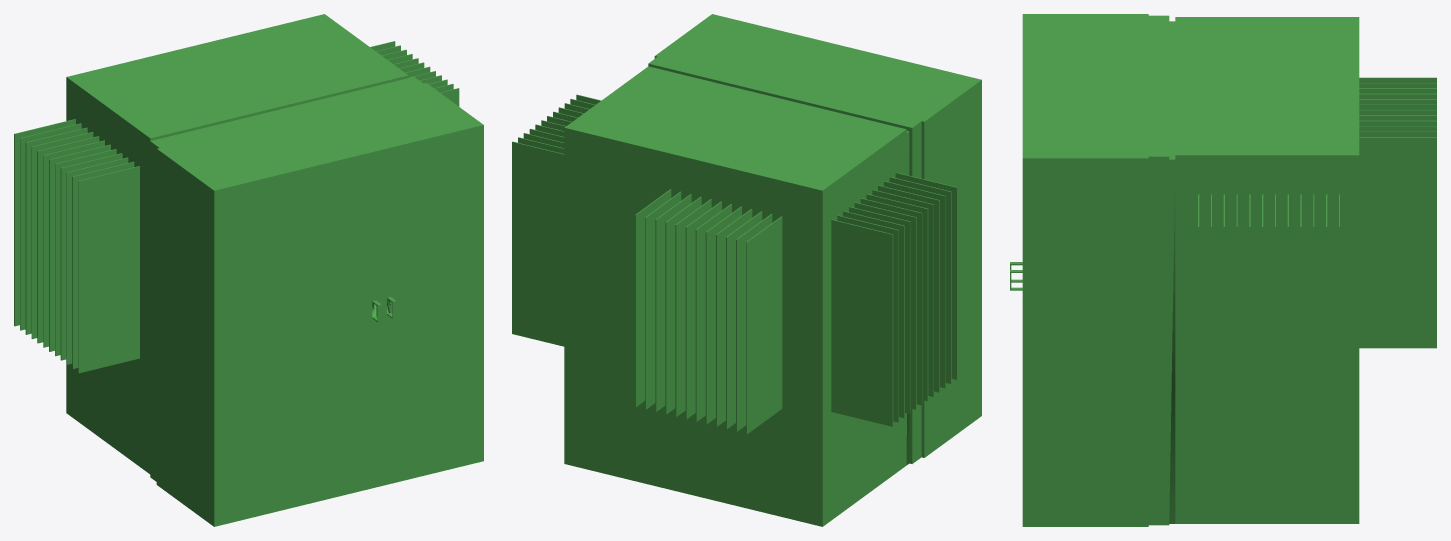
File: ElectricalBox_B.fbx
3 renders of one model, left to right at view 1: azimuth 30°, elevation 25°; view 2: azimuth 150°, elevation 25°; view 3: azimuth 270°, elevation 25°, orthographic. The views are drawn at different scales.
Parts seen in each view (by area): view 1: ElectricalBox_B; view 2: ElectricalBox_B; view 3: ElectricalBox_B.
Part boxes in pixels (x1,y1,x2,y2): ElectricalBox_B: (14,14,483,526); ElectricalBox_B: (512,14,981,526); ElectricalBox_B: (1010,14,1436,526).
Size of the model in its own units: 199 by 168 by 176.
